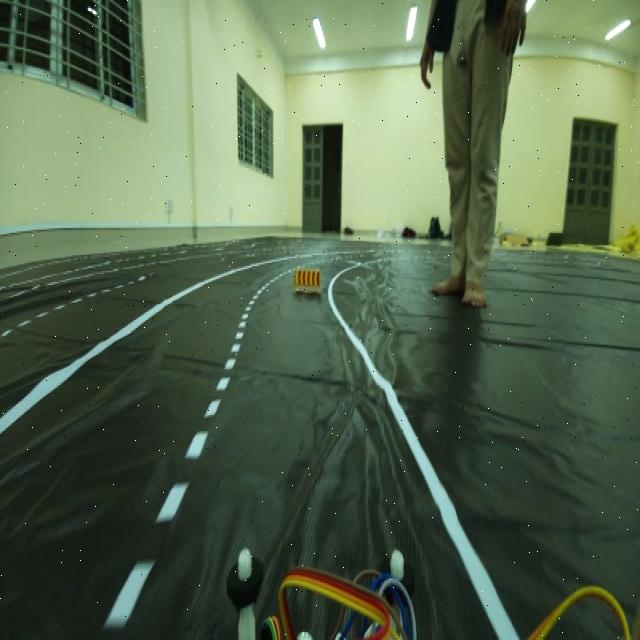roadblock: (291, 260, 329, 299)
